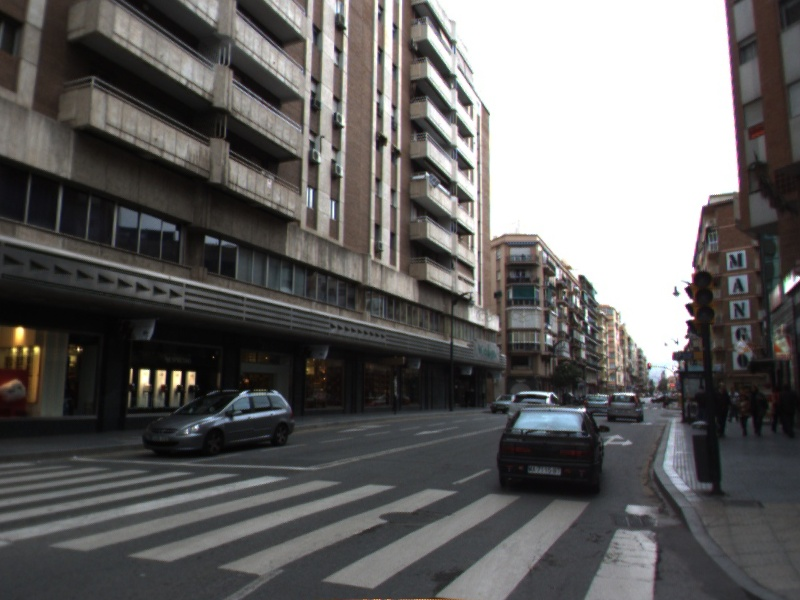STRAIGHT_RIGHT: (602, 432, 635, 448)
